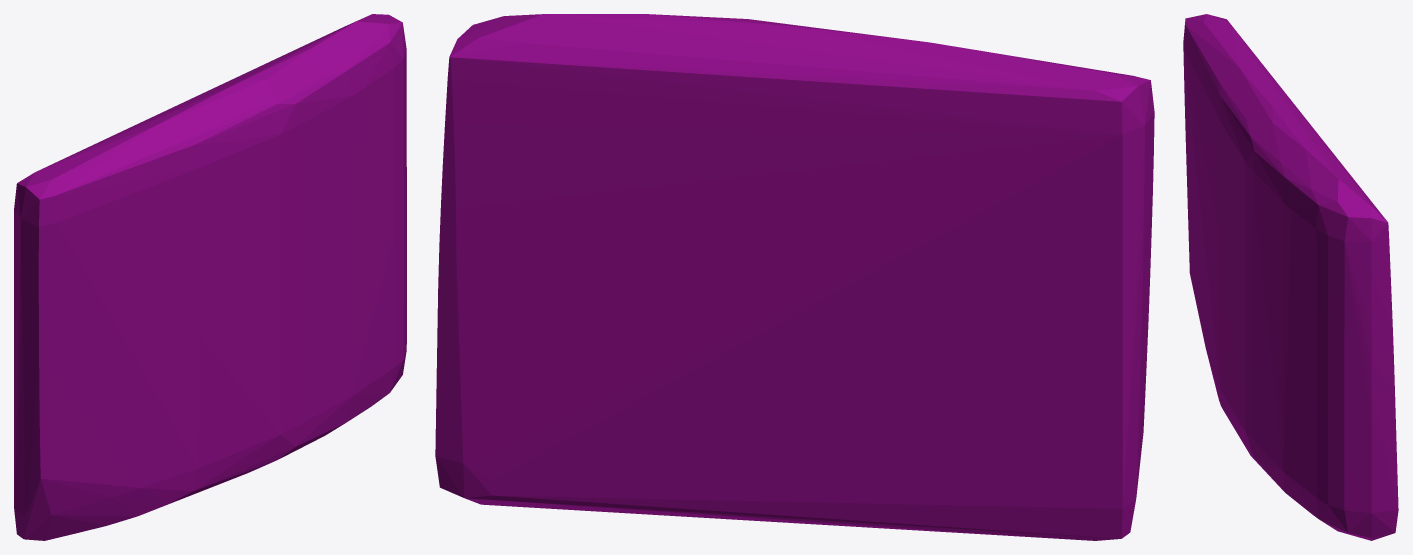
Rendered from right-hip-yaw-0_part_14.obj.
The picture shows the model from 3 angles, left to right: view 1: azimuth 30°, elevation 25°; view 2: azimuth 150°, elevation 25°; view 3: azimuth 270°, elevation 25°; orthographic projection. The views are drawn at different scales.
Size of the model in its own units: 0.0275 by 0.0219 by 0.0122.
